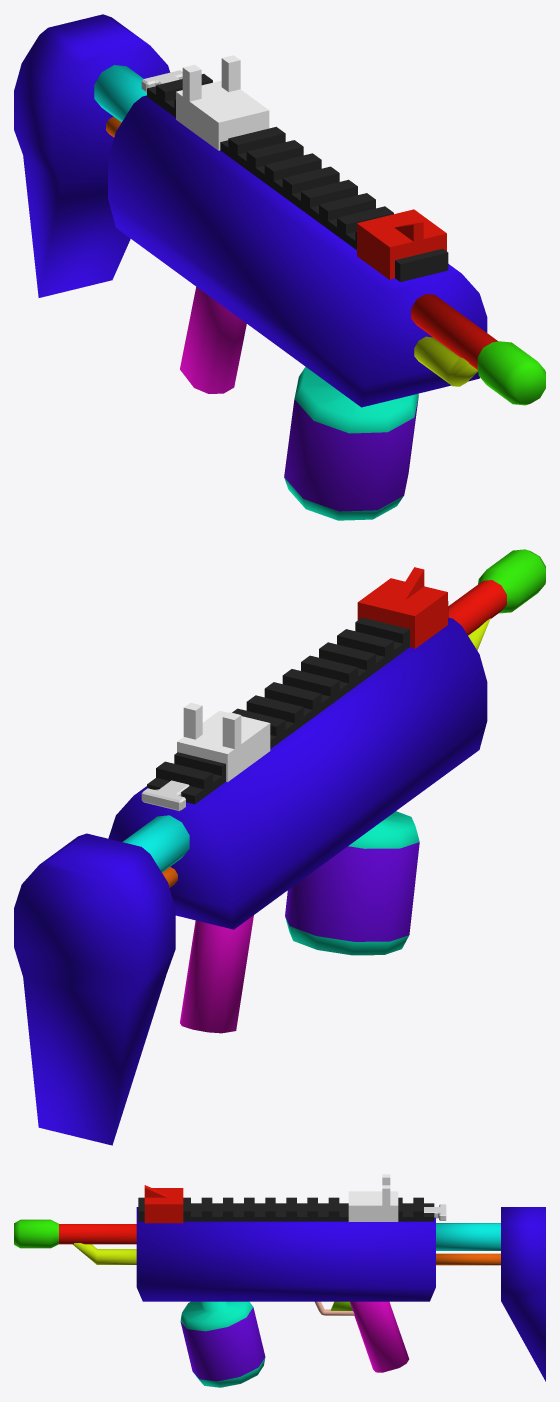
3 views of the same model, one above another, from view 1: azimuth 30°, elevation 25°; view 2: azimuth 150°, elevation 25°; view 3: azimuth 270°, elevation 25° (orthographic). The views are drawn at different scales.
Visible parts, largest first — view 1: CR1, Mag; view 2: CR1, Mag, bolt; view 3: CR1, Mag.
Boxes of the visible parts, x1,y1,x2,y2 form: CR1: (14,14,545,407); Mag: (284,366,418,520); CR1: (14,549,545,1145); Mag: (285,811,419,955); bolt: (141,780,189,811); CR1: (14,1174,545,1381); Mag: (180,1301,265,1387).
Size of the model in its own units: 0.1068 by 0.2799 by 0.6839.
